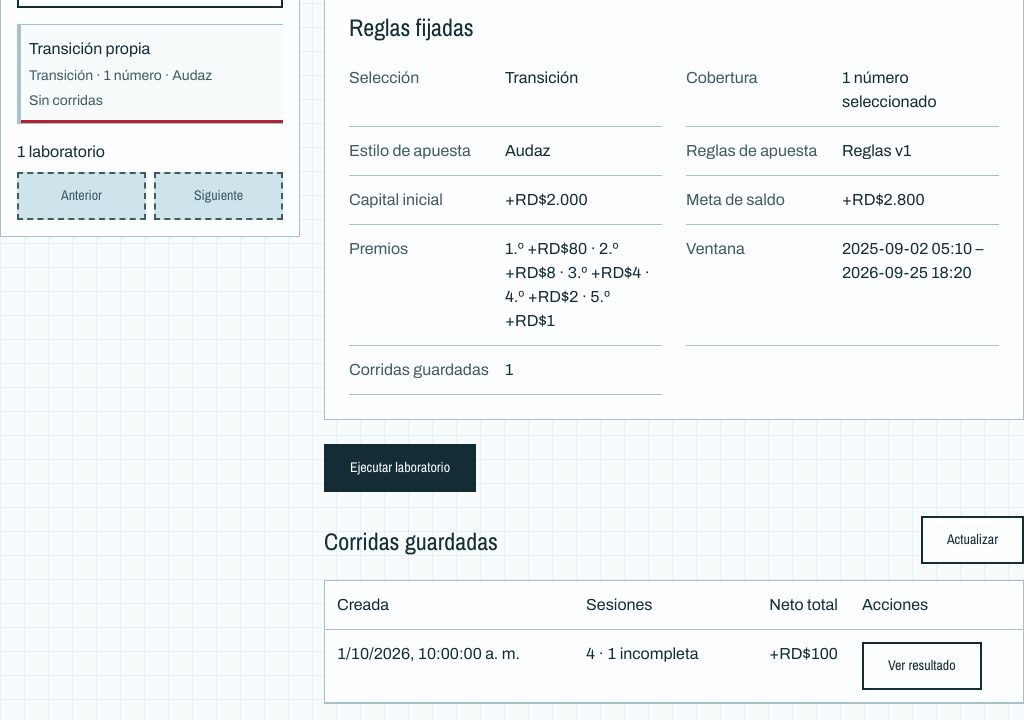
Test: laboratory workspace › shows the result by year with signs, colours, percentages, goals and ruins
The width and height of the screenshot is (1024, 720).
(page scrolled)
Click the button "Ver resultado". click: (922, 666)
box: top-left (862, 642), bottom-right (982, 690)
(page scrolled)
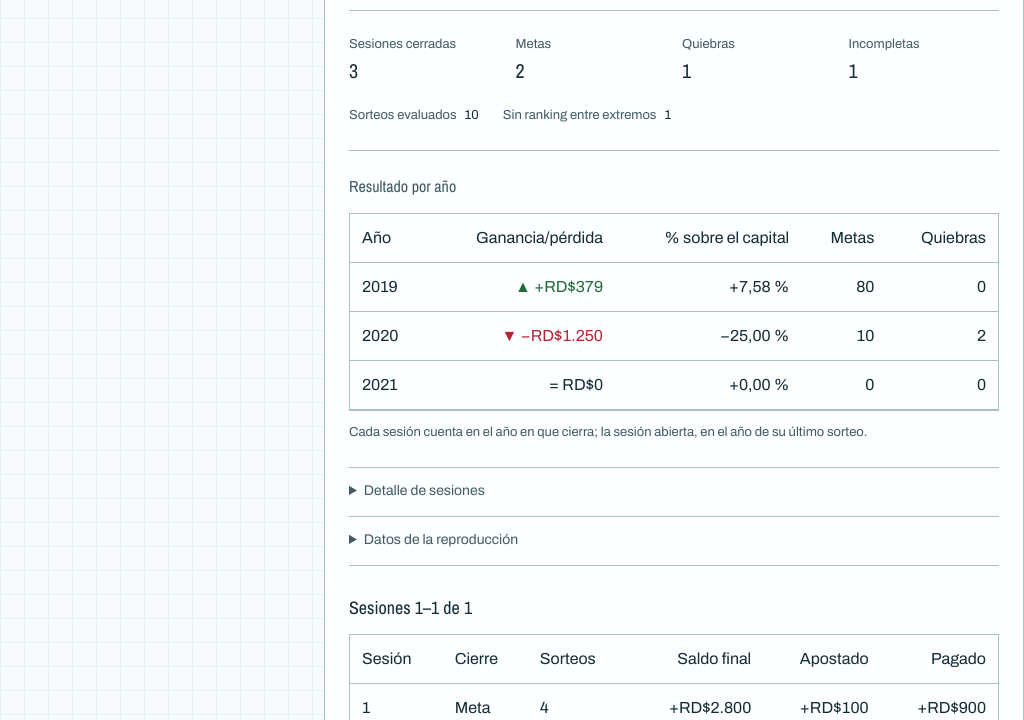
Check: the column headings read "Año", "Ganancia/pérdida", "% sobre el capital", "Metas", "Quiebras", in this order, box top-left (350, 214), bottom-right (426, 263); top-left (426, 214), bottom-right (615, 263); top-left (615, 214), bottom-right (801, 263); top-left (801, 214), bottom-right (886, 263); top-left (886, 214), bottom-right (998, 263)
Check: the column heading "2019" is shown, box top-left (350, 263), bottom-right (426, 312)
Check: the text "+7,58 %" is shown, box top-left (615, 263), bottom-right (801, 312)
